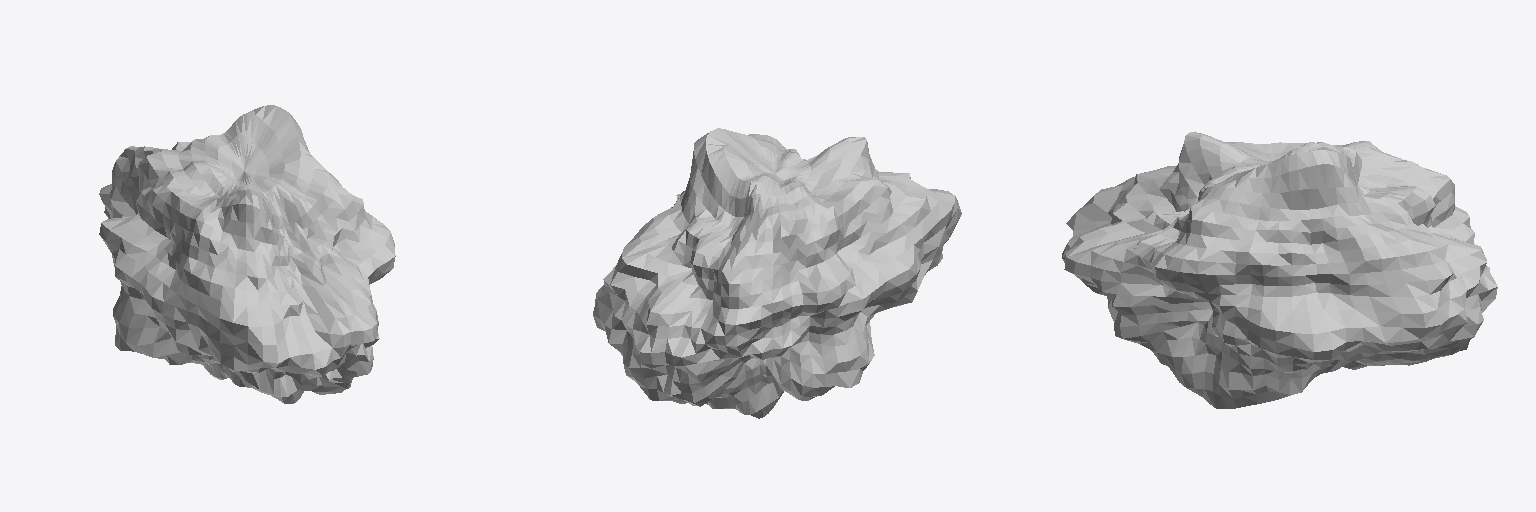
The model's file is planeterouge.obj.
The picture shows the model from 3 angles: view 1: azimuth 30°, elevation 25°; view 2: azimuth 150°, elevation 25°; view 3: azimuth 270°, elevation 25°; orthographic projection.
Visible parts, largest first — view 1: Sphere_Sphere.001; view 2: Sphere_Sphere.001; view 3: Sphere_Sphere.001.
Boxes of the visible parts, box(x1,y1,x2,y2) form: Sphere_Sphere.001: box(99, 105, 395, 403); Sphere_Sphere.001: box(593, 128, 961, 418); Sphere_Sphere.001: box(1062, 132, 1497, 408).
Bounding box in the file's own units: 2.37 × 2.32 × 3.65.